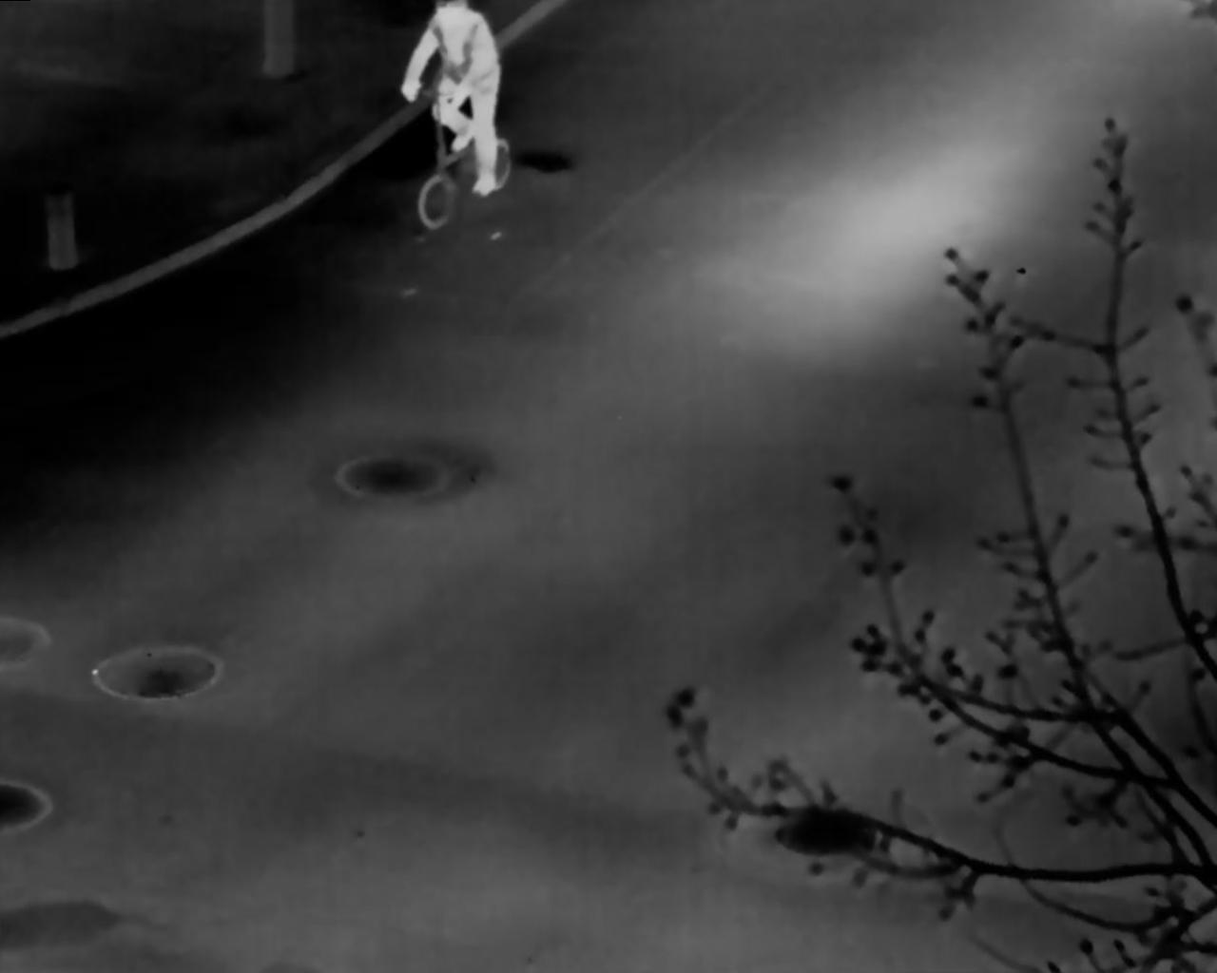person: (401, 4, 499, 196)
